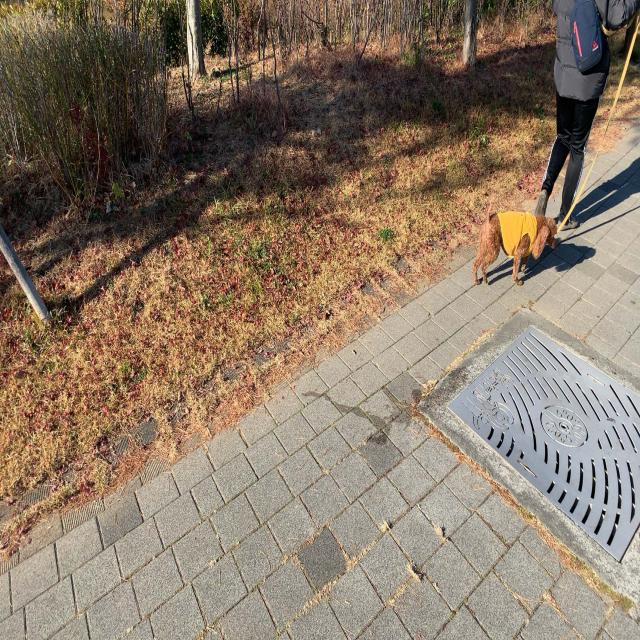Leashed_Dog: (472, 168, 581, 287)
